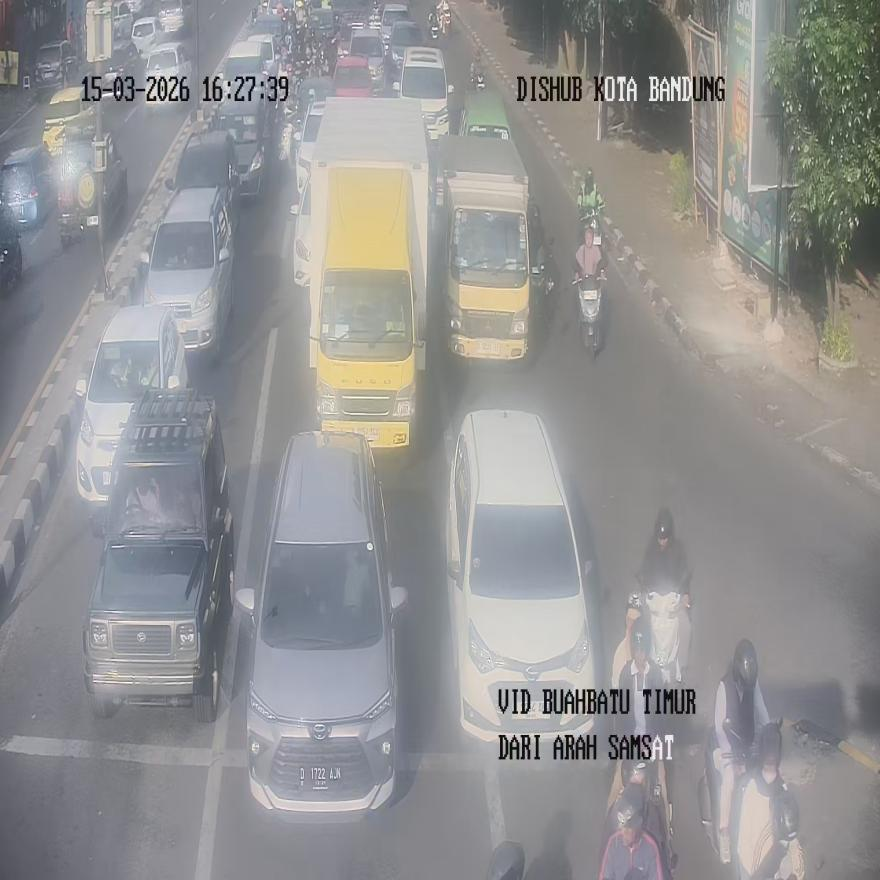Mobil: (235, 430, 407, 820), (446, 409, 599, 745), (82, 389, 234, 721), (75, 302, 189, 530), (143, 185, 233, 356), (166, 128, 237, 209), (393, 45, 454, 138)
Motor: (698, 720, 802, 879), (632, 572, 691, 711), (574, 270, 604, 358), (470, 61, 485, 90), (439, 2, 451, 35), (429, 11, 440, 40)
Truk berat: (305, 98, 433, 454)
Truk ringan: (434, 134, 544, 360)
